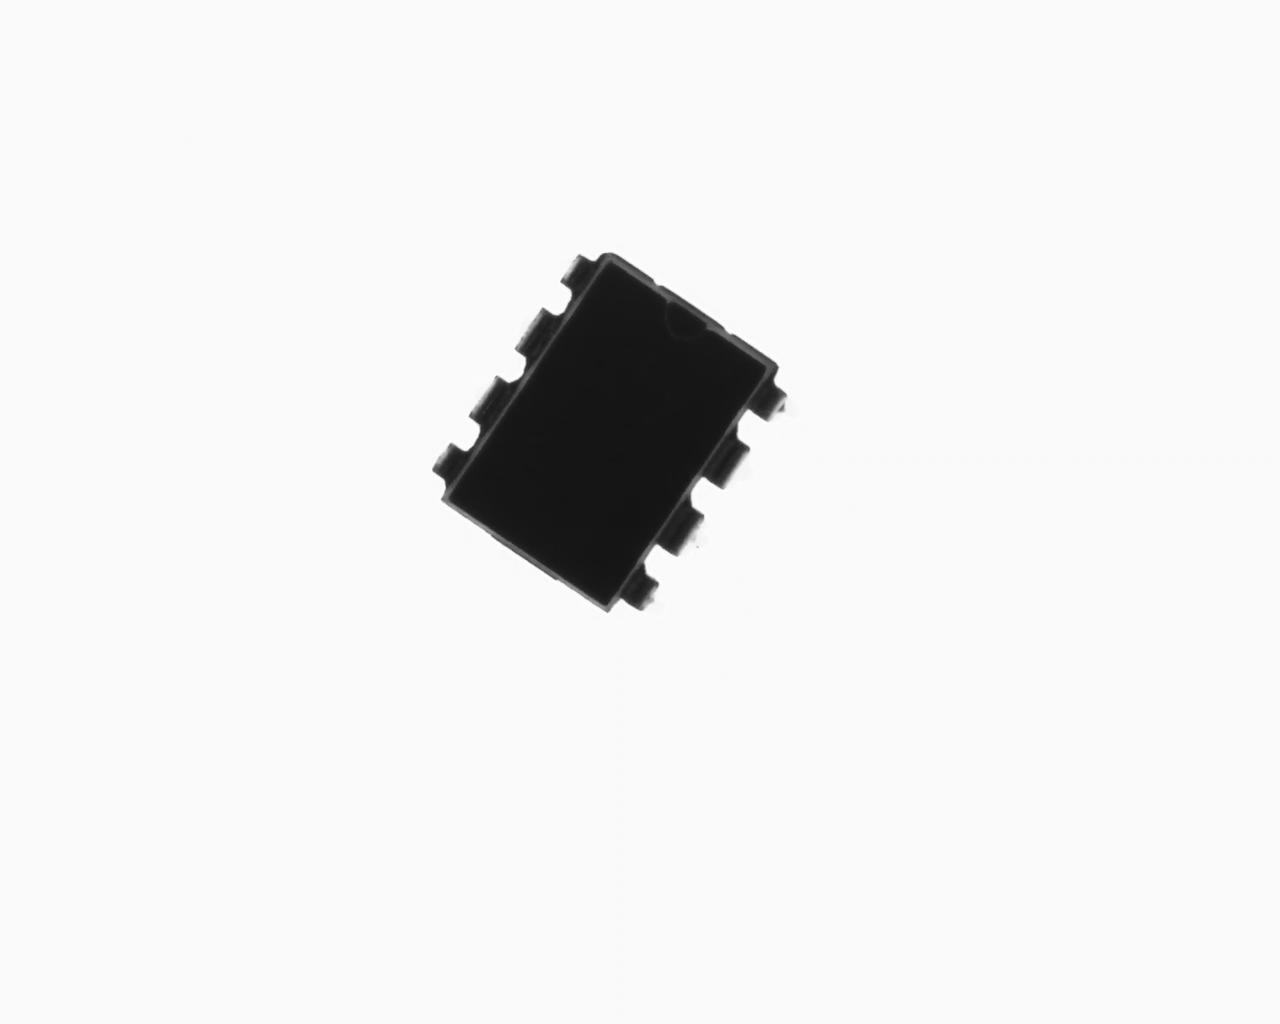Leg: (699, 428, 754, 501), (464, 368, 518, 434), (753, 369, 802, 441), (658, 504, 711, 565), (511, 297, 557, 367), (417, 436, 473, 489), (620, 561, 670, 621), (553, 240, 604, 298)
